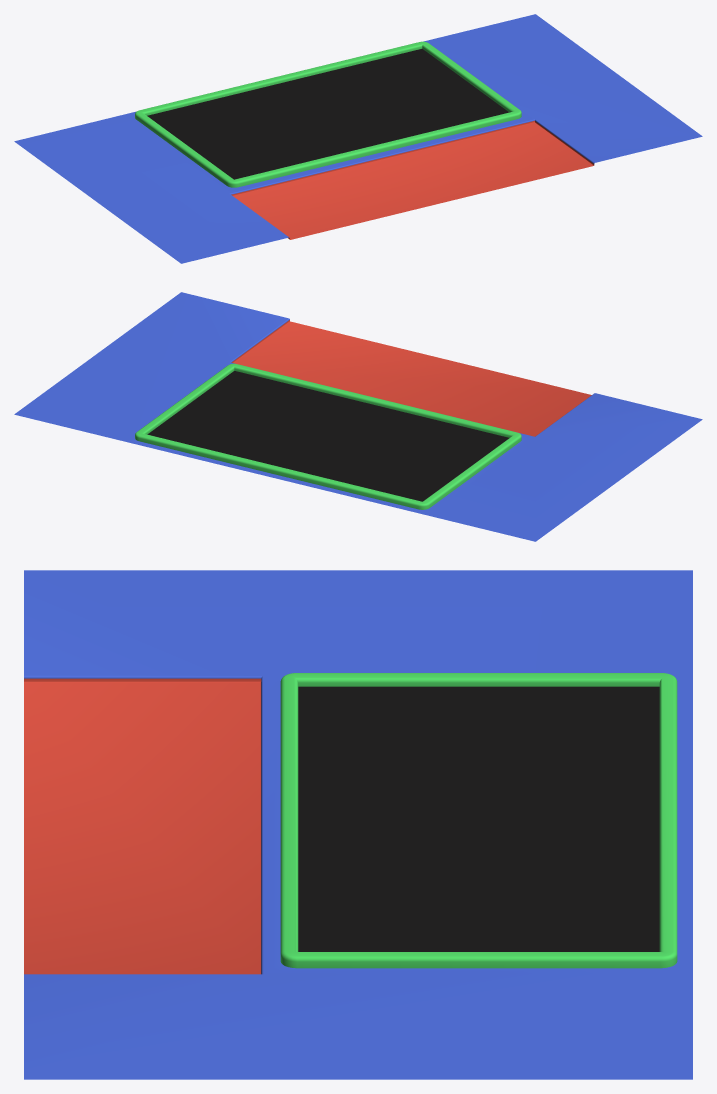
Rendered from Console.fbx.
3 views of the same model, one above another, from view 1: azimuth 30°, elevation 25°; view 2: azimuth 150°, elevation 25°; view 3: azimuth 270°, elevation 25° (orthographic). The views are drawn at different scales.
Parts seen in each view (by area): view 1: Console; view 2: Console; view 3: Console.
Boxes of the visible parts, x1,y1,x2,y2 form: Console: [14, 14, 702, 263]; Console: [14, 292, 702, 541]; Console: [24, 570, 692, 1079].
Size of the model in its own units: 7200 by 104 by 4000.
